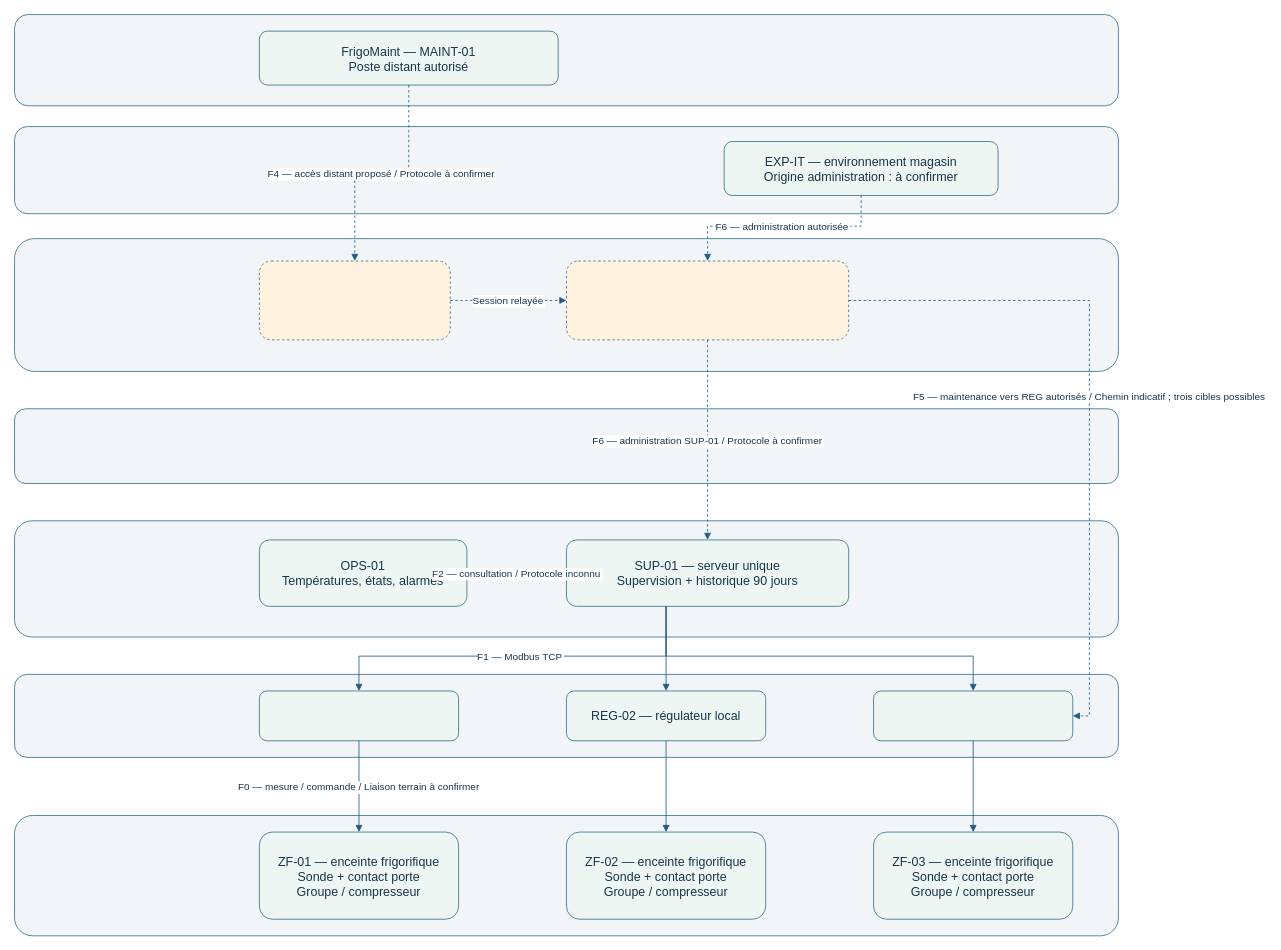
This 1281x950 diagram has some shape labels left out. The centre of each missing label's shape, as x and y in pixels:
"Accès distant sécurisé Point d’entrée proposé Identité et ouverture contrôlées" goes at point (354, 300).
"BASTION proposé Sessions autorisées et tracées Cibles et opérations limitées" goes at point (707, 300).
"REG-01 — régulateur local" goes at point (359, 715).
"REG-03 — régulateur local" goes at point (973, 715).
